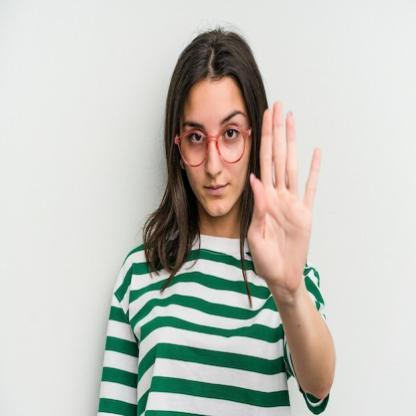stop: (246, 99, 326, 283)
